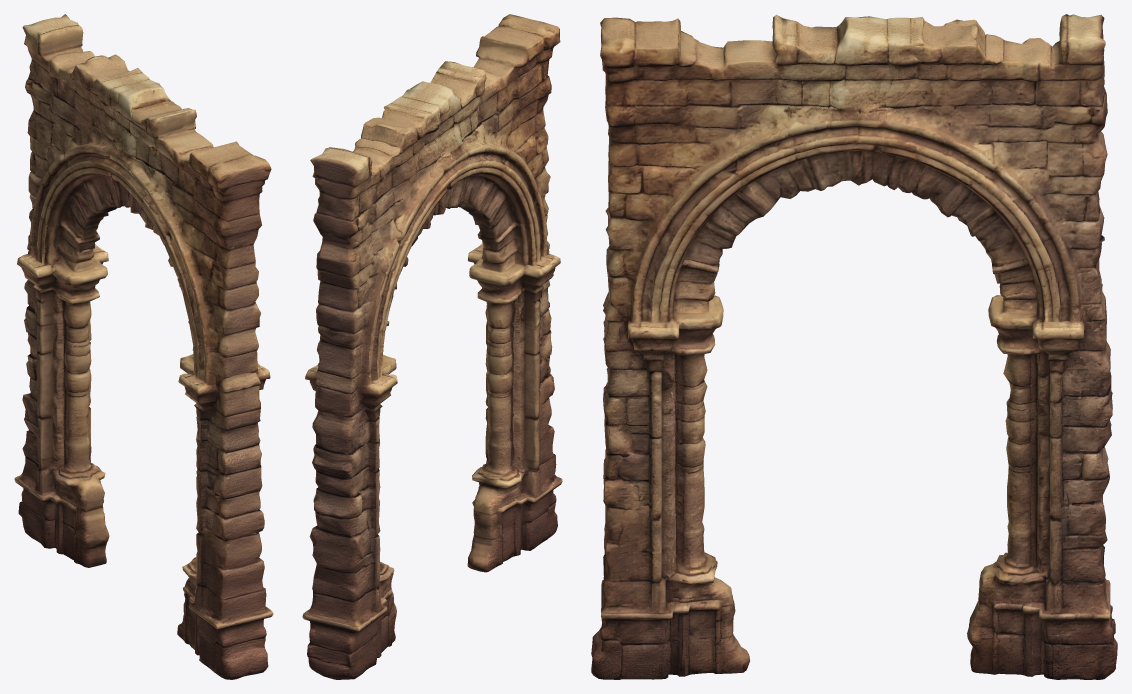
File: sf_sandstone_gate.glb
The picture shows the model from 3 angles, left to right: view 1: azimuth 30°, elevation 25°; view 2: azimuth 150°, elevation 25°; view 3: azimuth 270°, elevation 25°; orthographic projection. The views are drawn at different scales.
Parts seen in each view (by area): view 1: sf_sandstone_gate; view 2: sf_sandstone_gate; view 3: sf_sandstone_gate.
Part boxes in pixels (x1,y1,x2,y2): sf_sandstone_gate: (14,14,273,679); sf_sandstone_gate: (302,14,562,679); sf_sandstone_gate: (591,14,1117,679).
Size of the model in its own units: 0.9017 by 5.96 by 4.42.
Materials: 1 (1 with a texture image).
